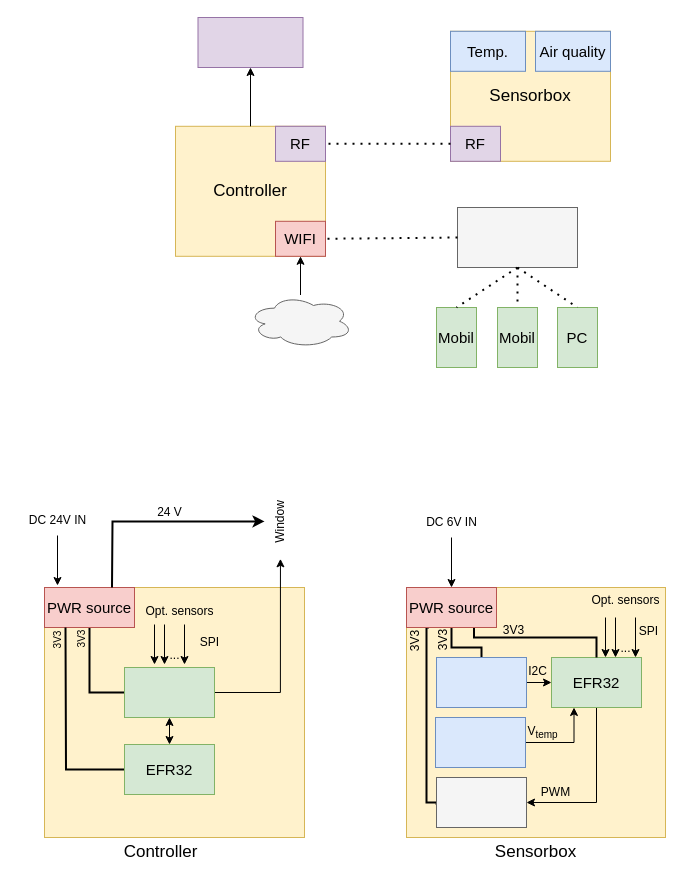
This 687x885 diagram has some shape labels left out. The shapes that lost their labels are listed below. From the top down, each one's centre as x and y in pixels, then its label:
[250,42]: Linear actuator (window)
[517,237]: Router
[300,321]: Weather
[169,692]: ESP32
[481,682]: Air quality sensor
[480,742]: Temp. sensor
[481,802]: FAN
